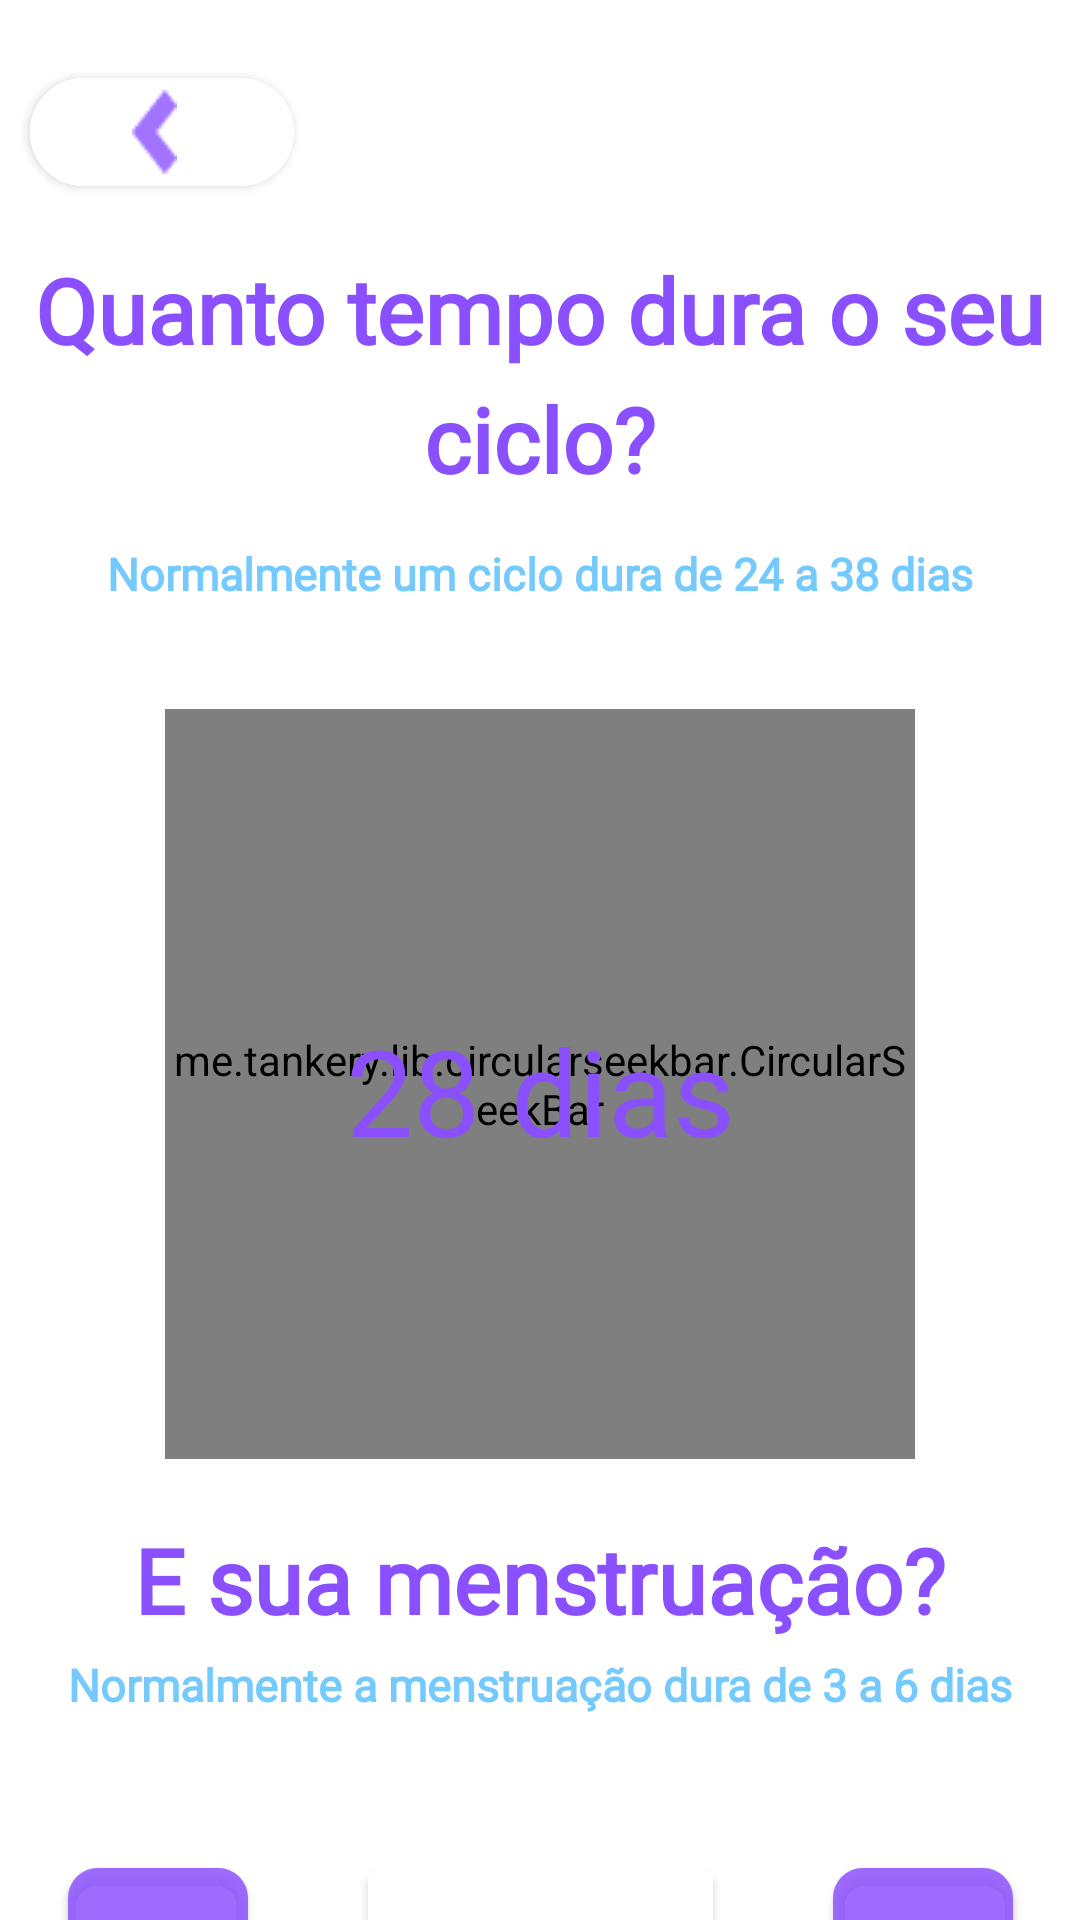

Where icons sit on this 1080×1920 app screen, as (x1, y1, x2, y2):
Voltar: (30, 90, 177, 177)
